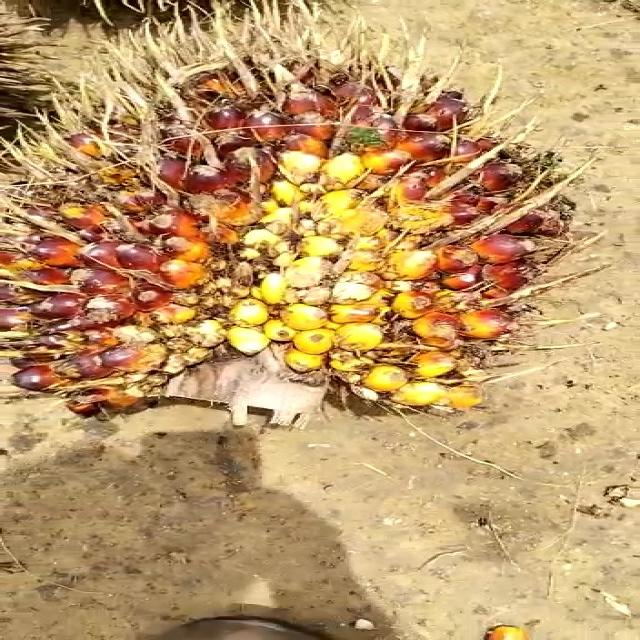palm oil: (16, 34, 563, 440)
